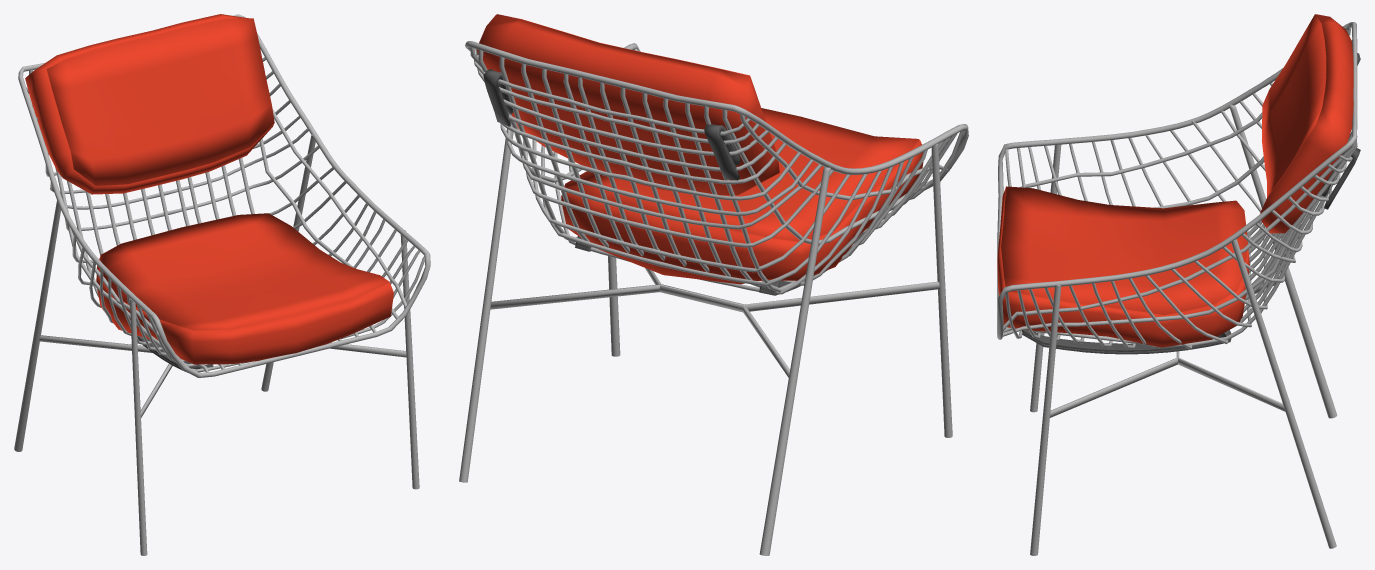
Rendered from Wallace.glb.
3 renders of one model, left to right at view 1: azimuth 30°, elevation 25°; view 2: azimuth 150°, elevation 25°; view 3: azimuth 270°, elevation 25°, orthographic. The views are drawn at different scales.
Parts seen in each view (by area): view 1: Wallace; view 2: Wallace; view 3: Wallace.
Boxes of the visible parts, bbox=[...] form: Wallace: bbox=[14, 14, 430, 555]; Wallace: bbox=[459, 14, 968, 555]; Wallace: bbox=[997, 14, 1360, 555].
Bounding box in the file's own units: 24.42 × 32.38 × 25.54.
